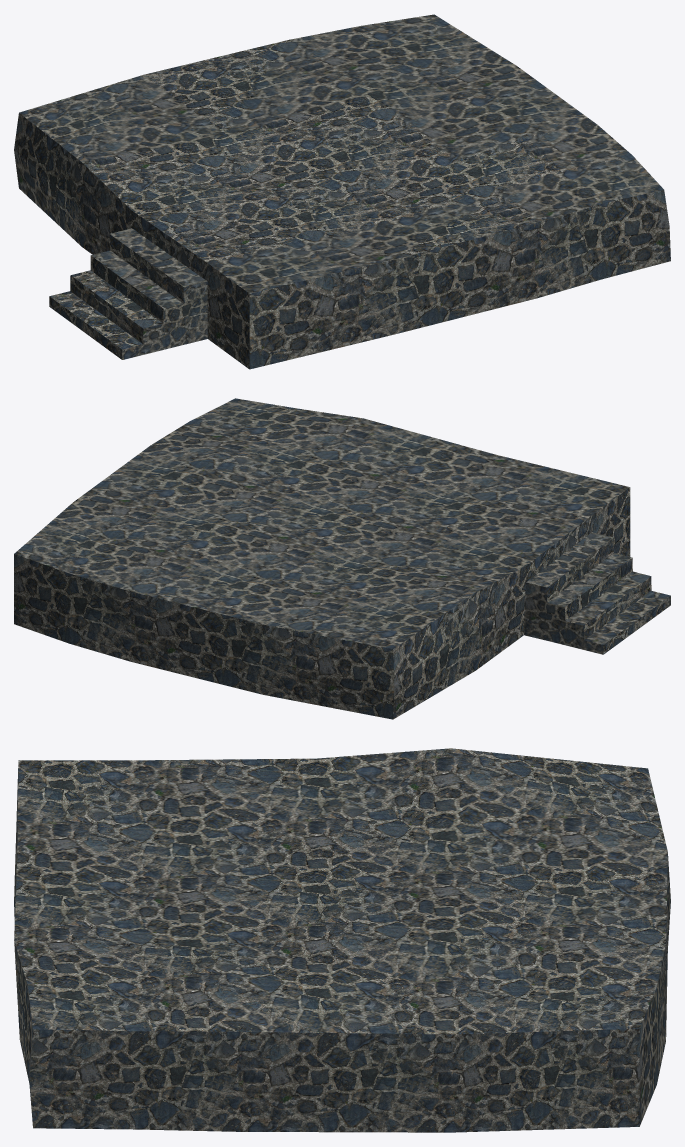
Rendered from court.glb.
The picture shows the model from 3 angles, top to bottom: view 1: azimuth 30°, elevation 25°; view 2: azimuth 150°, elevation 25°; view 3: azimuth 270°, elevation 25°; orthographic projection. The views are drawn at different scales.
Visible parts, largest first — view 1: Court; view 2: Court; view 3: Court.
Boxes of the visible parts, bbox=[...] form: Court: bbox=[14, 14, 670, 369]; Court: bbox=[14, 398, 670, 719]; Court: bbox=[14, 748, 670, 1132].
Bounding box in the file's own units: 17.65 × 2.78 × 14.94.
1 material, 1 textured.
